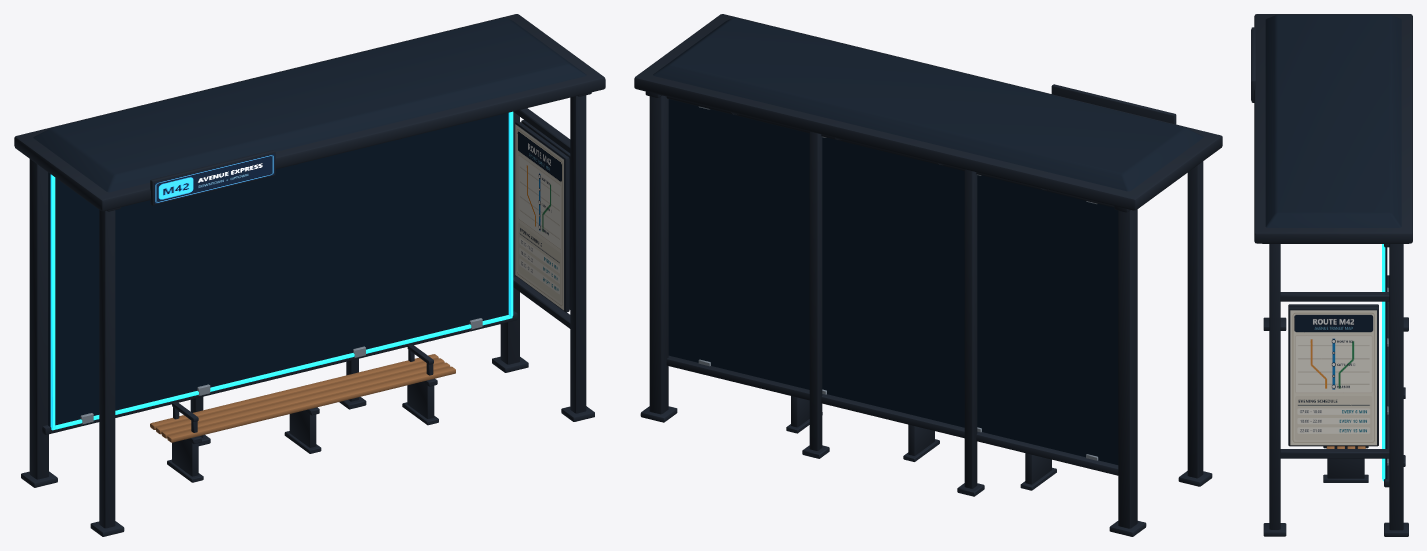
Rendered from busstop_glass.glb.
3 renders of one model, left to right at view 1: azimuth 30°, elevation 25°; view 2: azimuth 150°, elevation 25°; view 3: azimuth 270°, elevation 25°, orthographic. The views are drawn at different scales.
Parts seen in each view (by area): view 1: BusStop_Glass_Frame, BusStop_Glass_Glass, BusStop_Glass_Accent; view 2: BusStop_Glass_Glass, BusStop_Glass_Frame; view 3: BusStop_Glass_Frame, BusStop_Glass_Accent, BusStop_Glass_Glass.
Part boxes in pixels (left/top/right/bottom): BusStop_Glass_Frame: left=14, top=14, right=605, bottom=536; BusStop_Glass_Glass: left=48, top=112, right=508, bottom=426; BusStop_Glass_Accent: left=50, top=111, right=513, bottom=430; BusStop_Glass_Glass: left=668, top=99, right=1118, bottom=464; BusStop_Glass_Frame: left=634, top=14, right=1222, bottom=536; BusStop_Glass_Frame: left=1251, top=14, right=1412, bottom=536; BusStop_Glass_Accent: left=1382, top=244, right=1385, bottom=481; BusStop_Glass_Glass: left=1385, top=247, right=1387, bottom=478.
Bounding box in the file's own units: 5.06 × 3.38 × 1.57.
8 materials, 2 textured.
